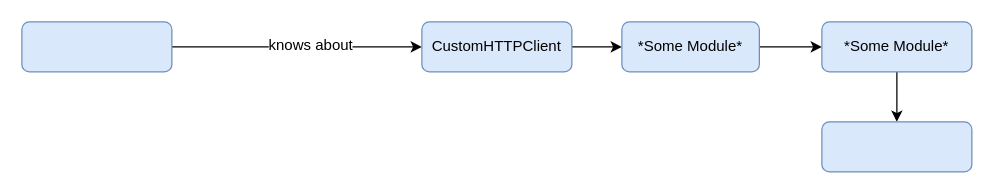
Image size: 994x194. Some labels were removed from this diagram. The box of each missing label's shape, as (x1, y1, x2, y2) in pixels:
And so on...: (821, 121, 972, 172)
WeatherProvider: (21, 21, 172, 72)
